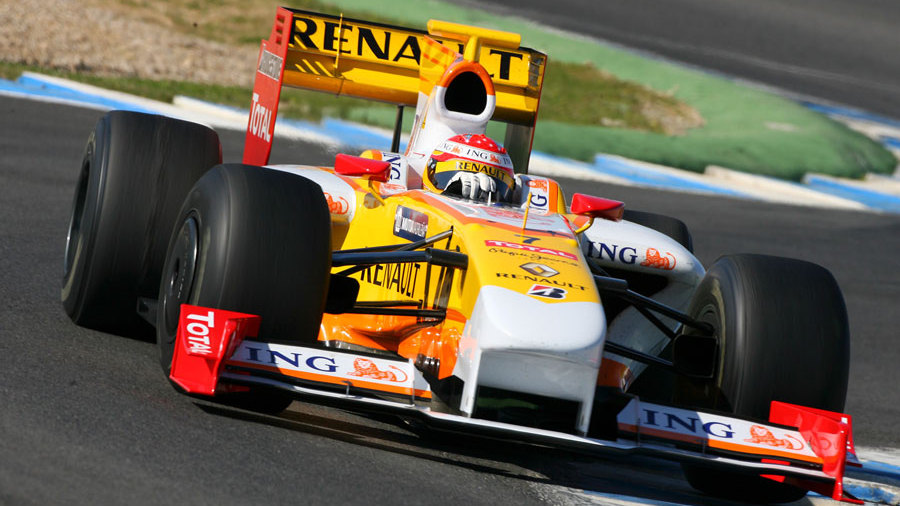f1_car: (47, 4, 872, 506)
